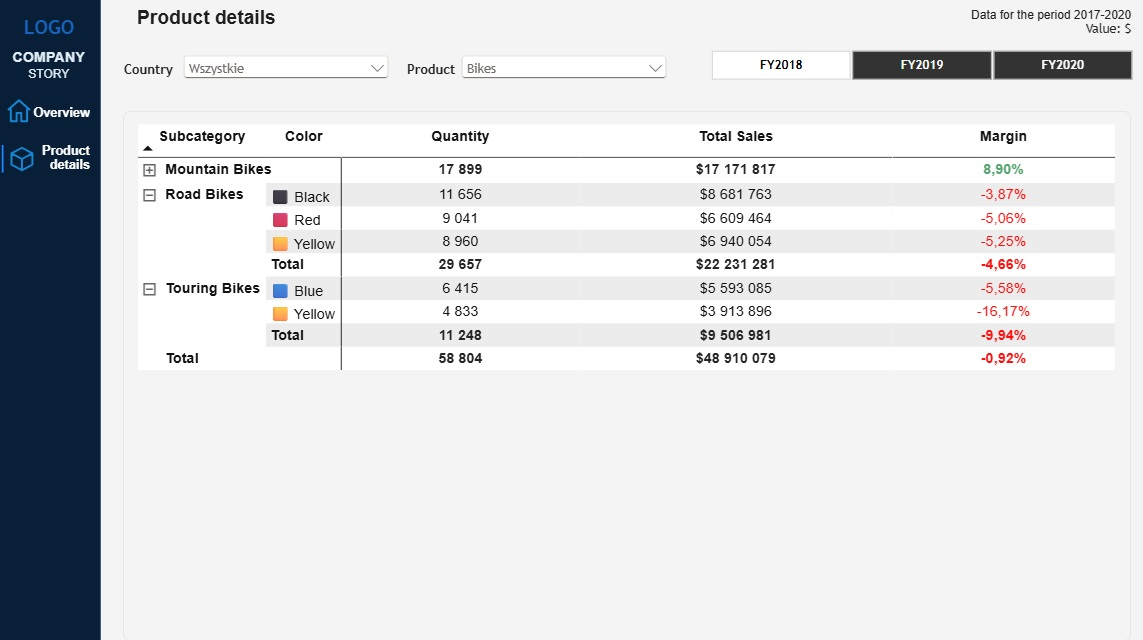

What the dashboard file says about the page in this screenshot:
{"tool":"powerbi","page":{"name":"Product Details","canvas":[1280,720],"ordinal":1},"visuals":[{"type":"slicer","fields":{"Values":["Date.Year"]},"box":[772.9,60,507.1,35.7],"z":0},{"type":"shape","box":[0,0,115,720],"z":2000},{"type":"textbox","box":[0,22.9,115.7,32.9],"z":3000},{"type":"textbox","box":[0,60,115,18.8],"z":4000},{"type":"textbox","box":[0,78.8,115,18.8],"z":5000},{"type":"textbox","box":[140.9,73,60,18.3],"z":6000},{"type":"slicer","fields":{"Values":["Region.Country"]},"box":[202.5,61.9,238.5,38.5],"z":7000},{"type":"textbox","box":[455.2,73,60.9,18.3],"z":8000},{"type":"slicer","fields":{"Values":["Product.Category"]},"box":[511.2,61.9,238.3,34.4],"z":9000},{"type":"textbox","box":[155,13.8,512.5,25],"z":10000},{"type":"textbox","box":[1063.8,13.8,196.9,41.9],"z":11000},{"type":"image","box":[9.4,111.2,30.6,35],"z":12000},{"type":"actionButton","box":[12.5,111.2,102.5,40],"z":13000},{"type":"shape","box":[0,166.3,12.5,30.6],"z":14000},{"type":"pivotTable","fields":{"Rows":["Product.Subcategory","Product.Color Display"],"Values":["Sum(Sales.Quantity)","Sum(Sales.Sales)","Sales.Margin"]},"box":[140,128.9,1120,588.6],"z":15000},{"type":"image","box":[12.5,162.5,30.6,40],"z":16000},{"type":"actionButton","box":[12.8,157.8,101.7,47.8],"z":17000}]}

Visuals, with their boxes on the page's 1280x720 design canvas (x1, y1, x2, y2). These are canvas units, not pixel positions in the 1143x640 screenshot, which may show the page scaled, cropped or inside an application window:
slicer - Date.Year: x1=773 y1=60 x2=1280 y2=96
shape: x1=0 y1=0 x2=115 y2=720
textbox: x1=0 y1=23 x2=116 y2=56
textbox: x1=0 y1=60 x2=115 y2=79
textbox: x1=0 y1=79 x2=115 y2=98
textbox: x1=141 y1=73 x2=201 y2=91
slicer - Region.Country: x1=202 y1=62 x2=441 y2=100
textbox: x1=455 y1=73 x2=516 y2=91
slicer - Product.Category: x1=511 y1=62 x2=750 y2=96
textbox: x1=155 y1=14 x2=668 y2=39
textbox: x1=1064 y1=14 x2=1261 y2=56
image: x1=9 y1=111 x2=40 y2=146
actionButton: x1=12 y1=111 x2=115 y2=151
shape: x1=0 y1=166 x2=12 y2=197
pivotTable - Product.Subcategory x Product.Color Display: x1=140 y1=129 x2=1260 y2=718
image: x1=12 y1=162 x2=43 y2=202
actionButton: x1=13 y1=158 x2=114 y2=206
